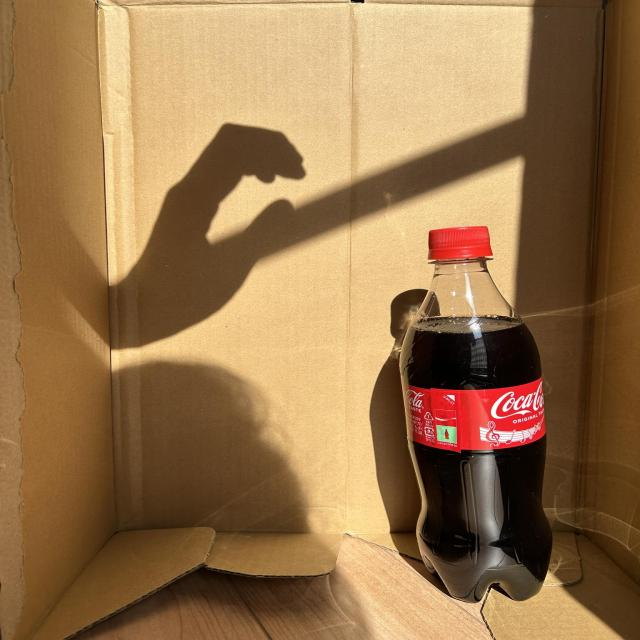high: (399, 227, 552, 602)
